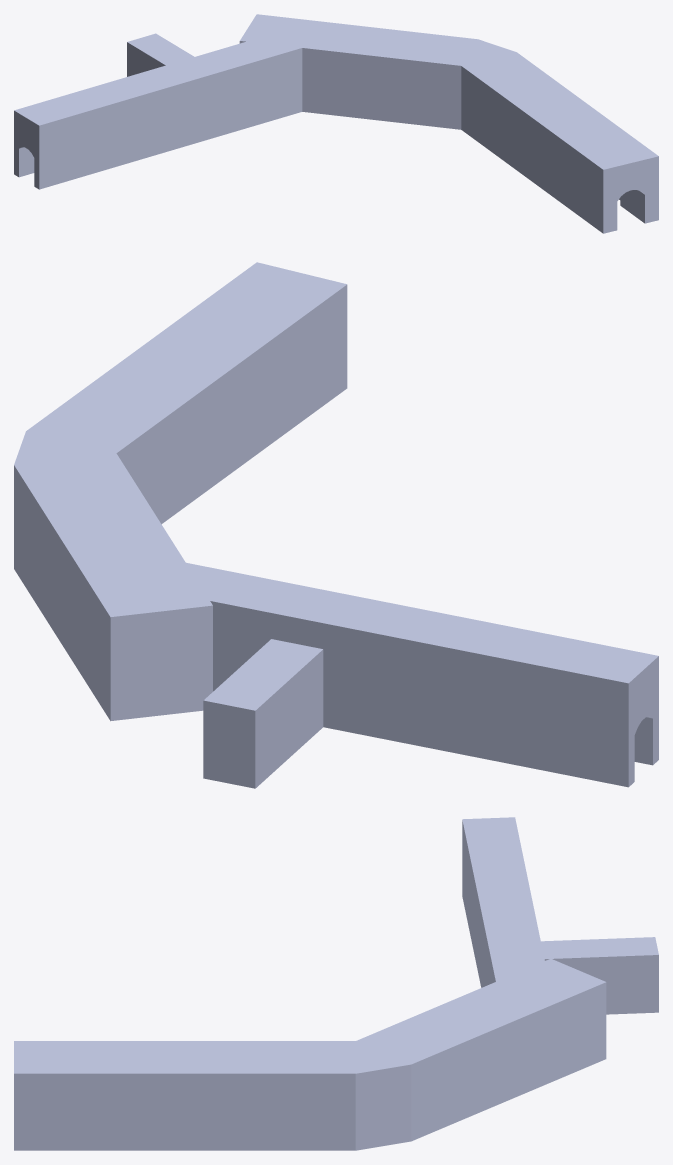
Rendered from suidao.fbx.
The picture shows the model from 3 angles, top to bottom: view 1: azimuth 30°, elevation 25°; view 2: azimuth 150°, elevation 25°; view 3: azimuth 270°, elevation 25°; orthographic projection. The views are drawn at different scales.
Parts seen in each view (by area): view 1: ÇÐ³ý-ÀÉì31; view 2: ÇÐ³ý-ÀÉì31; view 3: ÇÐ³ý-ÀÉì31.
Boxes of the visible parts, x1,y1,x2,y2 form: ÇÐ³ý-ÀÉì31: (14, 14, 658, 233); ÇÐ³ý-ÀÉì31: (14, 262, 658, 788); ÇÐ³ý-ÀÉì31: (14, 817, 658, 1150).
Size of the model in its own units: 1126 by 157 by 1196.
